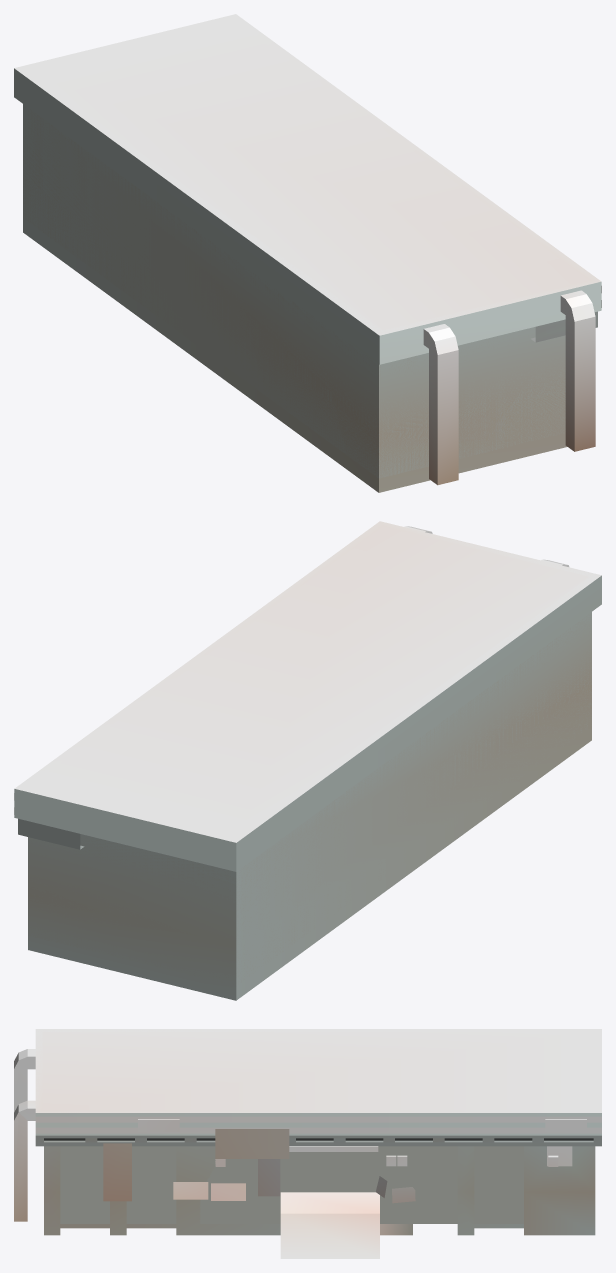
The model's file is workshop1.dae.
3 views of the same model, one above another, from view 1: azimuth 30°, elevation 25°; view 2: azimuth 150°, elevation 25°; view 3: azimuth 270°, elevation 25° (orthographic). The views are drawn at different scales.
Visible parts, largest first — view 1: workshop1_L50, workshop1_L200, Colmesh_workshop1-1; view 2: workshop1_L200, workshop1_L50; view 3: workshop1_L50, workshop1_L200, Colmesh_workshop1-1, workshop1_L100.
Part boxes in pixels (x1,y1,x2,y2): workshop1_L50: [16, 14, 599, 478]; workshop1_L200: [14, 14, 601, 492]; Colmesh_workshop1-1: [423, 290, 595, 483]; workshop1_L200: [14, 521, 601, 1000]; workshop1_L50: [16, 521, 598, 984]; workshop1_L50: [35, 1029, 601, 1223]; workshop1_L200: [14, 1029, 601, 1235]; Colmesh_workshop1-1: [14, 1049, 415, 1258]; workshop1_L100: [14, 1061, 572, 1215].
Bounding box in the file's own units: 14.88 × 35.53 × 8.38.
